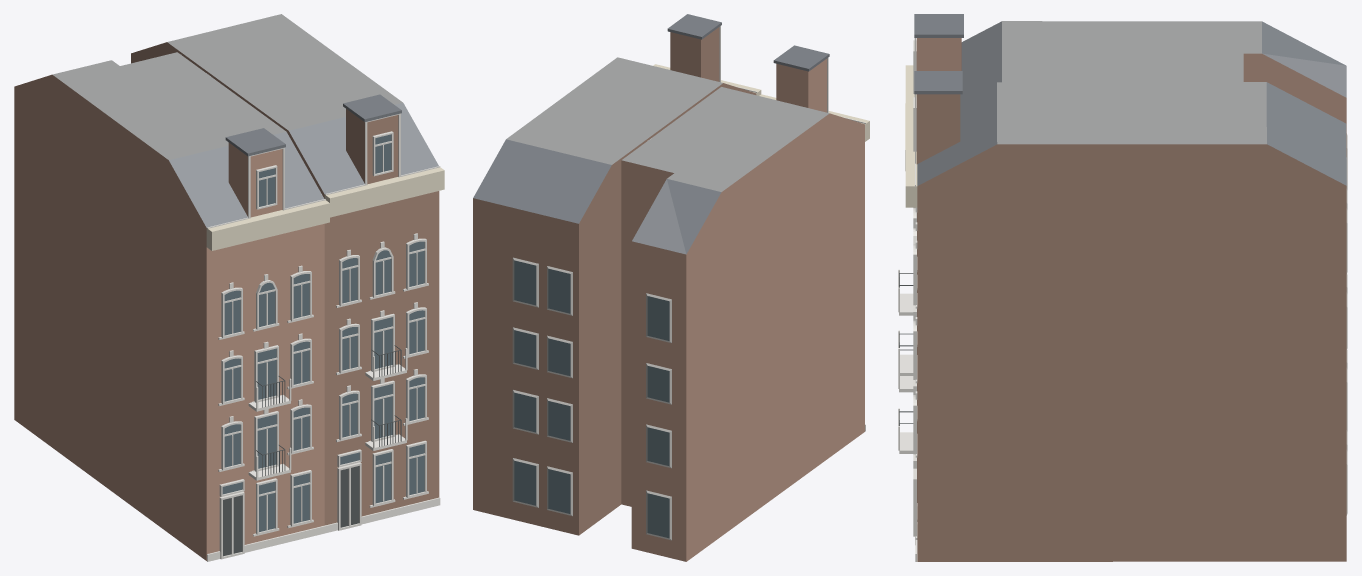
Rendered from chunk-face-helmers-209-253-r2.glb.
3 views of the same model, side by side, from view 1: azimuth 30°, elevation 25°; view 2: azimuth 150°, elevation 25°; view 3: azimuth 270°, elevation 25° (orthographic). The views are drawn at different scales.
Visible parts, largest first — view 1: face-helmers-209-253-r2; view 2: face-helmers-209-253-r2; view 3: face-helmers-209-253-r2.
Boxes of the visible parts, <box> form: face-helmers-209-253-r2: <box>14,14,444,561</box>; face-helmers-209-253-r2: <box>473,14,869,561</box>; face-helmers-209-253-r2: <box>898,14,1347,561</box>.
Size of the model in its own units: 10.14 by 16.86 by 15.26.
